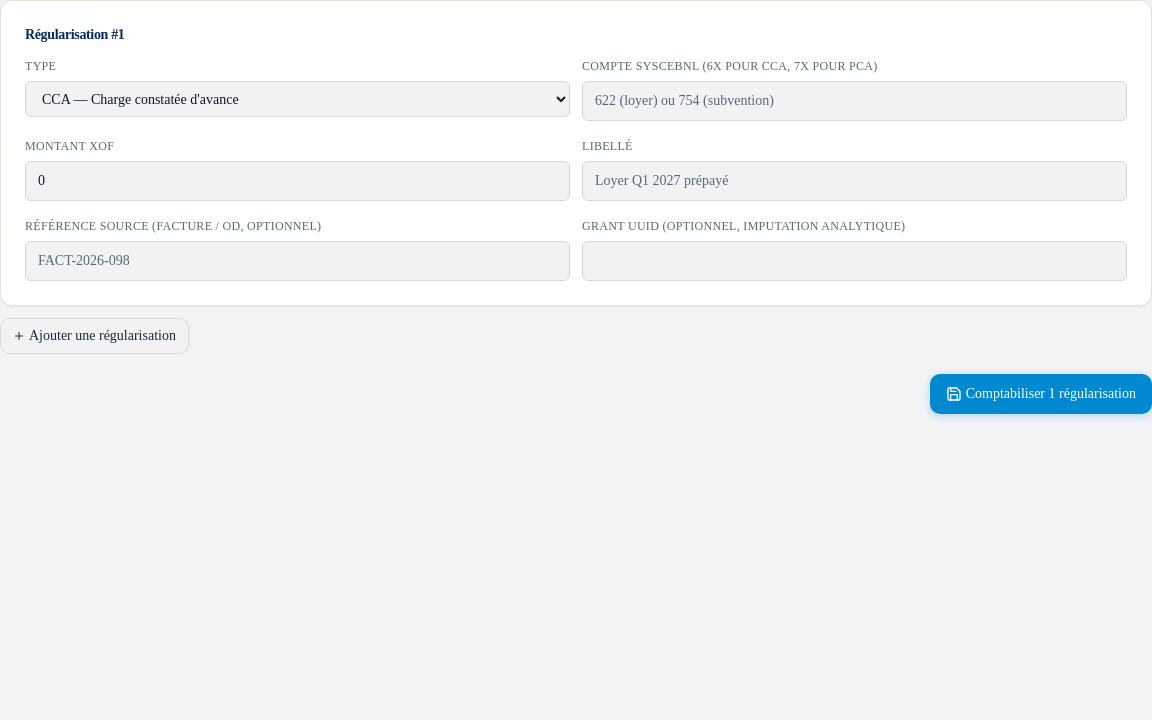
PrepaymentsForm › clic Supprimer retire une entrée (uniquement quand > 1)
The image size is (1152, 720).
Click the button with test id "prepayment-add".
click(94, 336)  # box [0,318,189,354]
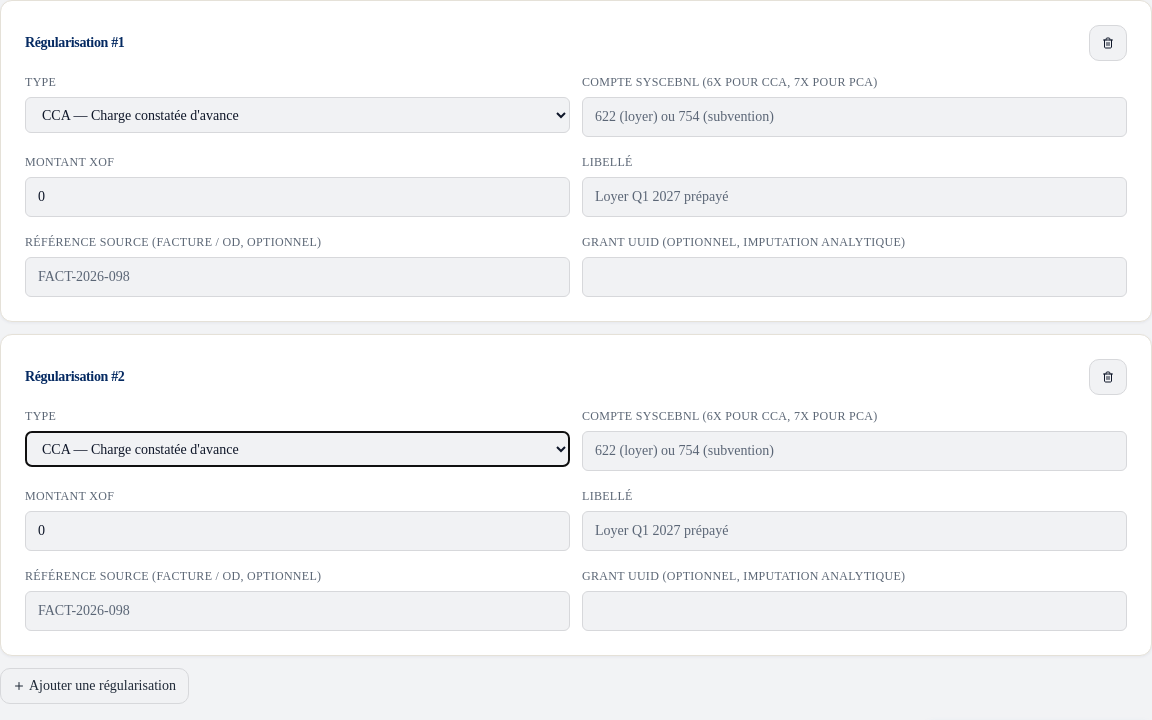
Expected: the button with test id "prepayment-remove-0" is shown, [1089,25,1127,61]
Click the button with test id "prepayment-remove-1".
click(1108, 377)  # box [1089,359,1127,395]
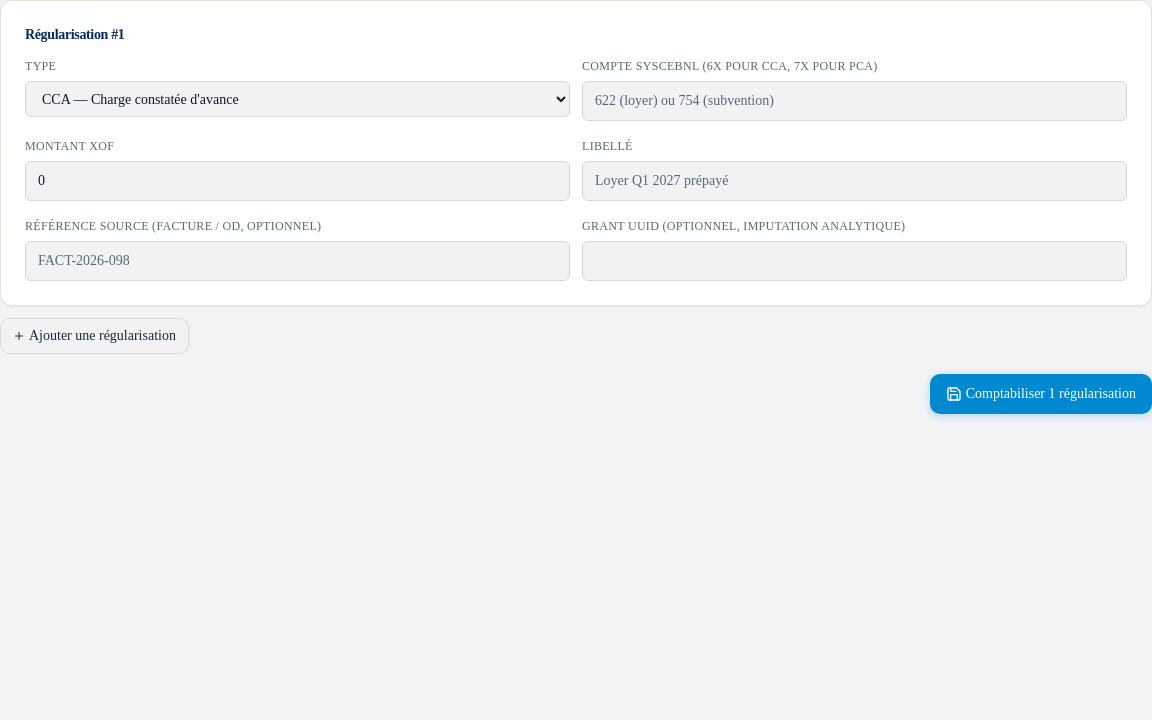
Expected: the element with test id "prepayment-entry-1" is gone
